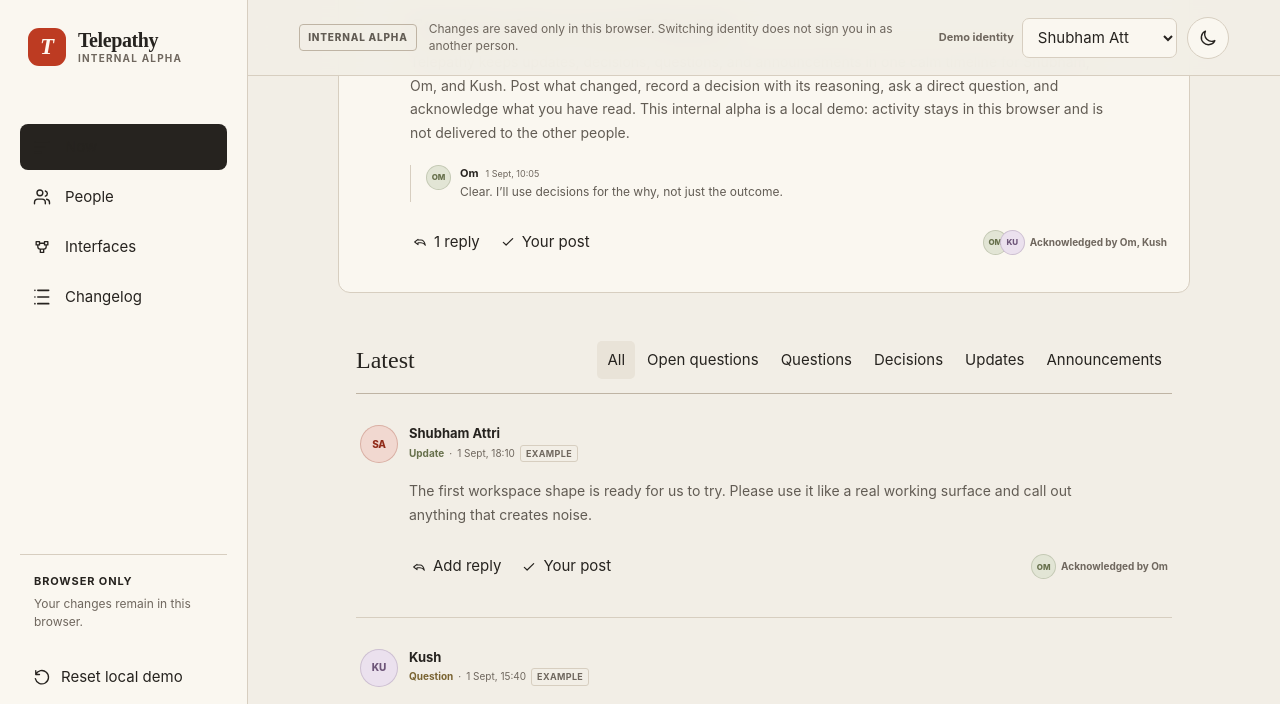
Telepathy workspace › filters only the latest posts while keeping the pinned explainer separate
The image size is (1280, 704).
(page scrolled)
Click the button "Updates". click: [995, 360]
box: x1=955 y1=341 x2=1034 y2=379
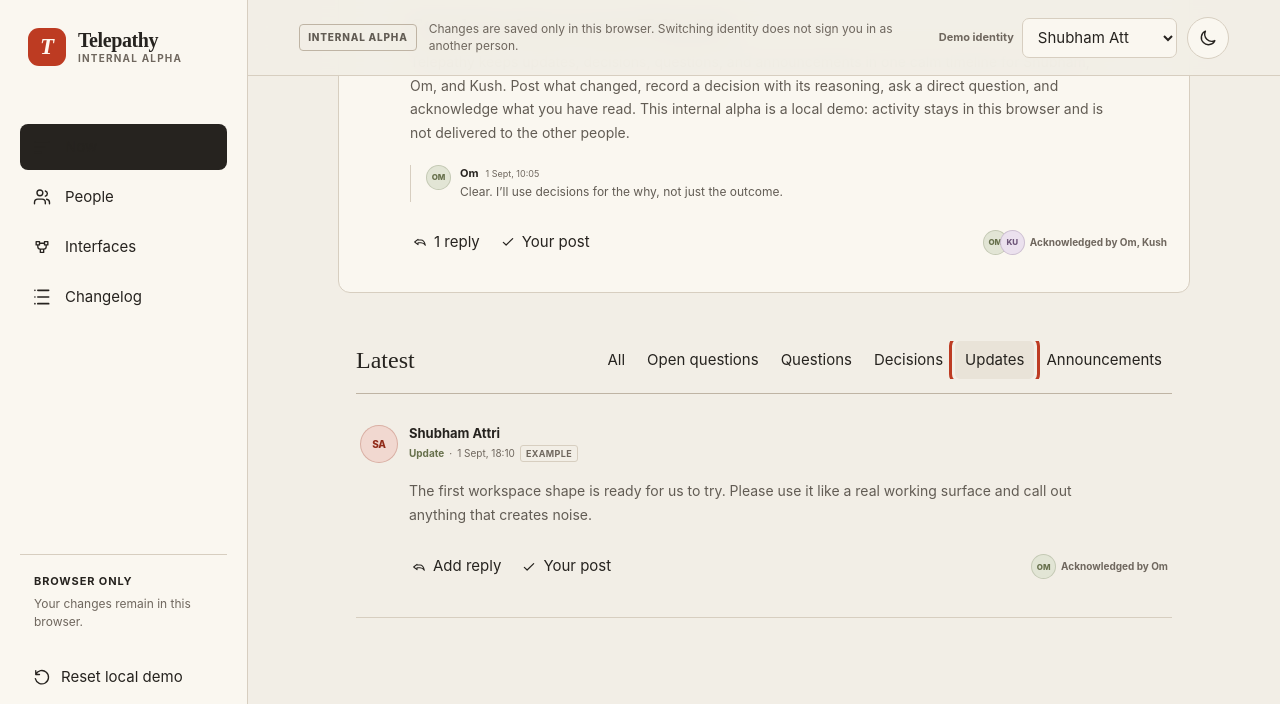
Expected: the element labelled "Pinned Start here" shows "Start here: how we use Telepathy", x1=410 y1=13 x2=734 y2=42
Click the button "Questions". click: [816, 360]
box: x1=771 y1=341 x2=862 y2=379
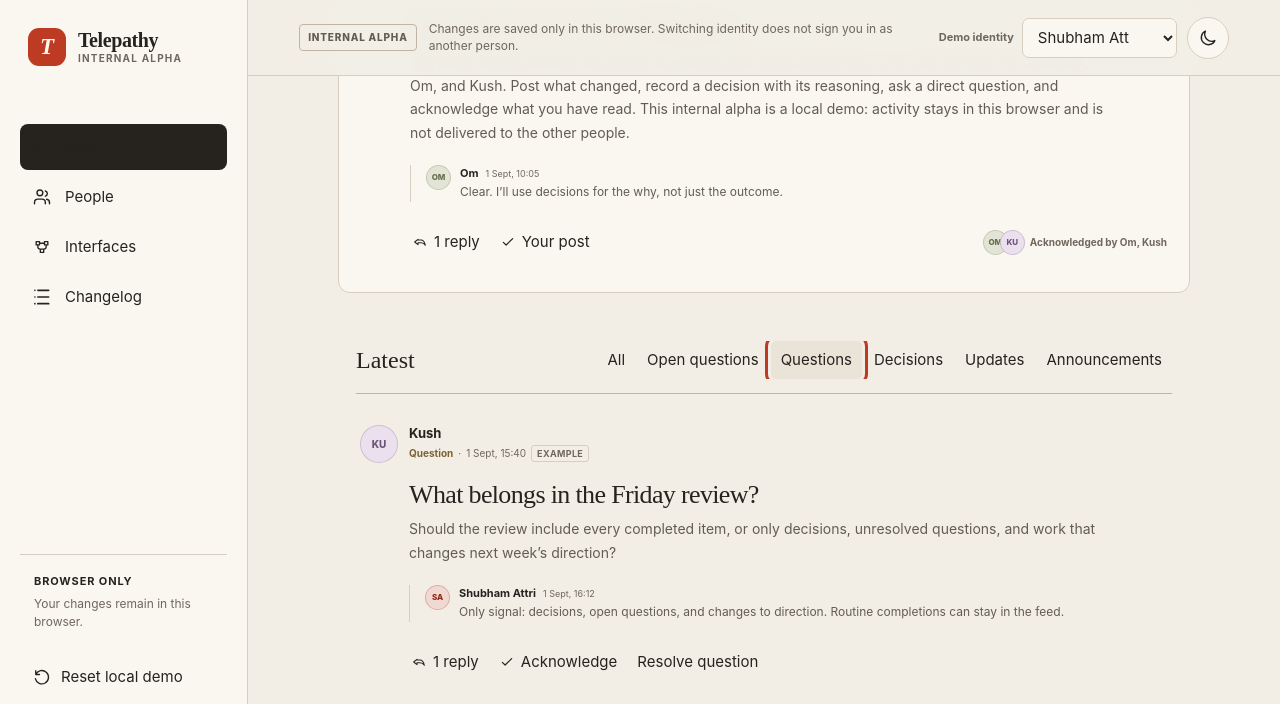
Now the heading "What belongs in the Friday review?" is shown, box x1=409 y1=480 x2=759 y2=509
